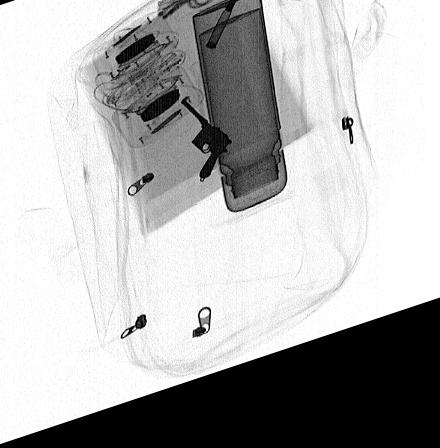Bullet: (205, 0, 242, 63)
Gun: (181, 108, 231, 191)
